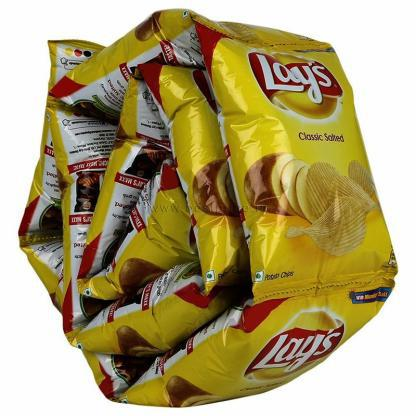classicsalted: (195, 19, 399, 289), (117, 282, 400, 408), (136, 64, 243, 289), (73, 75, 172, 299), (14, 37, 113, 242), (14, 244, 140, 402), (45, 107, 119, 336), (72, 257, 229, 361), (50, 3, 201, 108)
